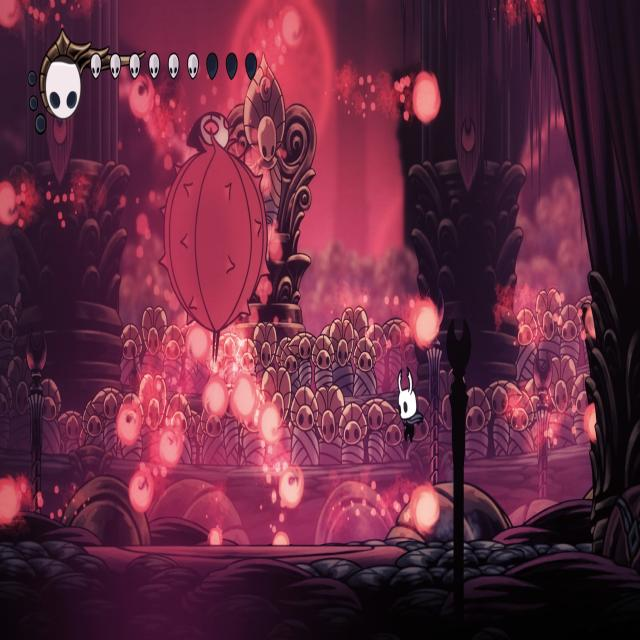Player: (395, 363, 427, 449)
Pufferfish: (155, 107, 274, 372)
Tiny Fireballs: (413, 73, 441, 126), (412, 299, 440, 350), (412, 484, 440, 535), (233, 375, 258, 424), (129, 466, 154, 514), (130, 76, 156, 121), (204, 376, 228, 421), (279, 466, 304, 509), (116, 404, 140, 447), (0, 478, 20, 527), (260, 401, 282, 445), (281, 6, 303, 50), (161, 428, 183, 468), (0, 182, 17, 227), (583, 399, 599, 446), (188, 324, 208, 360), (0, 0, 21, 28), (584, 300, 598, 340), (208, 526, 222, 546), (273, 532, 290, 546)
